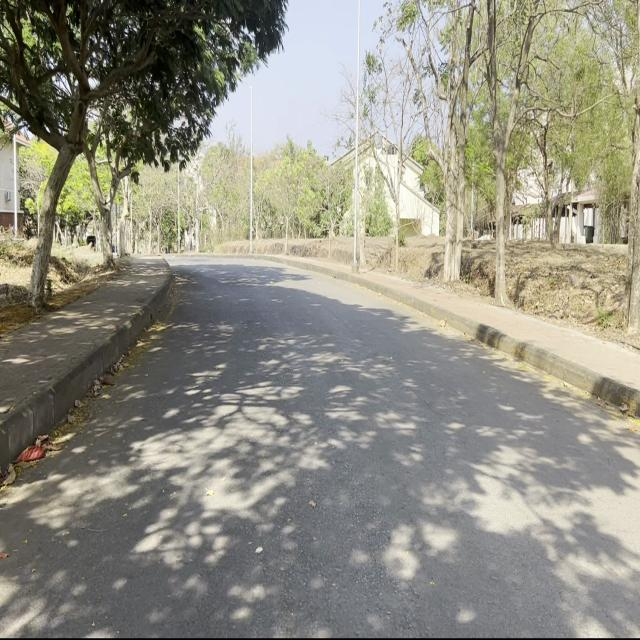Road: (3, 252, 638, 631)
